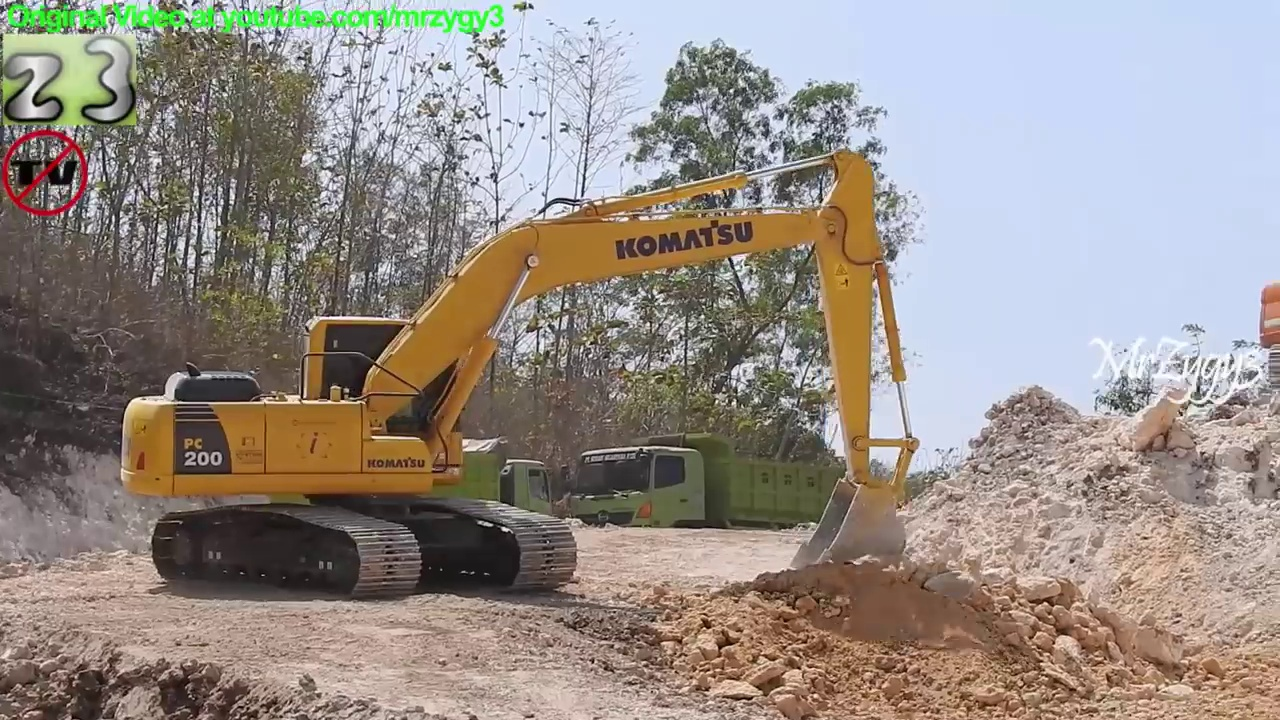excavator: (116, 148, 927, 610), (1244, 278, 1280, 404)
truck: (564, 431, 855, 562), (272, 430, 554, 552)
